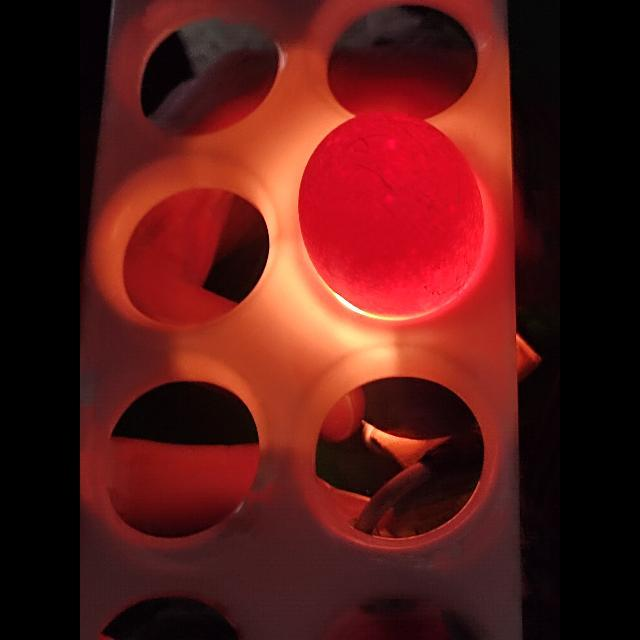Infertile: (300, 107, 494, 316)
